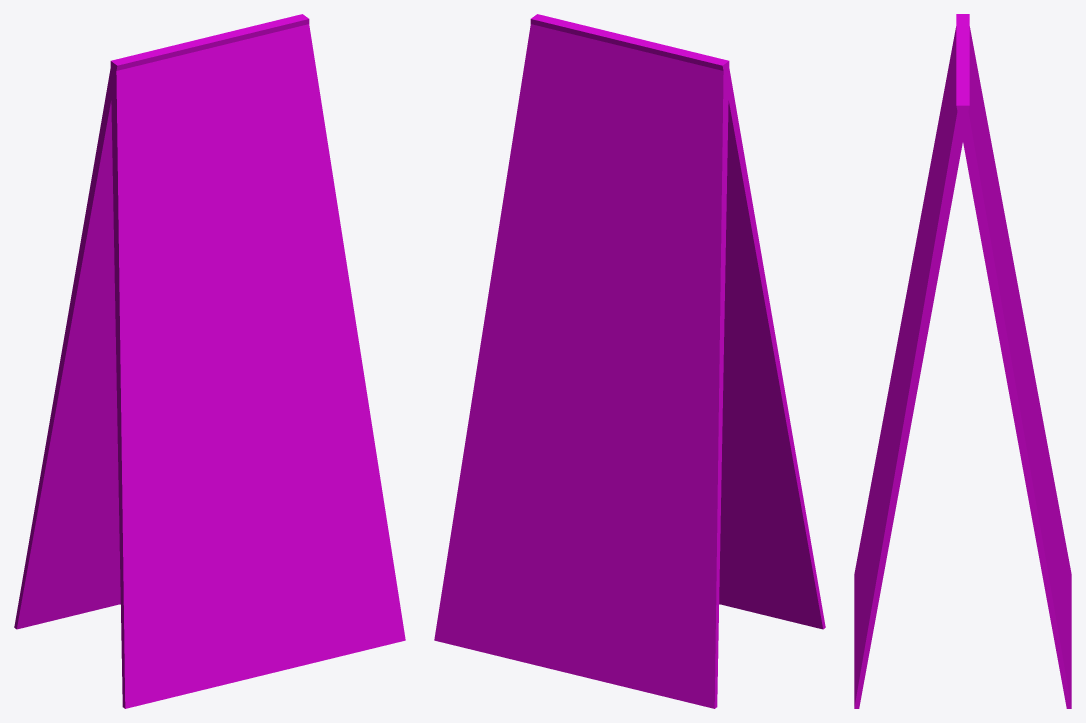
File: SM_CautionSignCollider.fbx
The picture shows the model from 3 angles, left to right: view 1: azimuth 30°, elevation 25°; view 2: azimuth 150°, elevation 25°; view 3: azimuth 270°, elevation 25°; orthographic projection. The views are drawn at different scales.
Visible parts, largest first — view 1: CautionSignCollision; view 2: CautionSignCollision; view 3: CautionSignCollision.
Part boxes in pixels (<box>): CautionSignCollision: <box>14,14,405,708</box>; CautionSignCollision: <box>434,14,825,708</box>; CautionSignCollision: <box>854,14,1071,708</box>.
Bounding box in the file's own units: 38.2 × 77.33 × 26.19.
